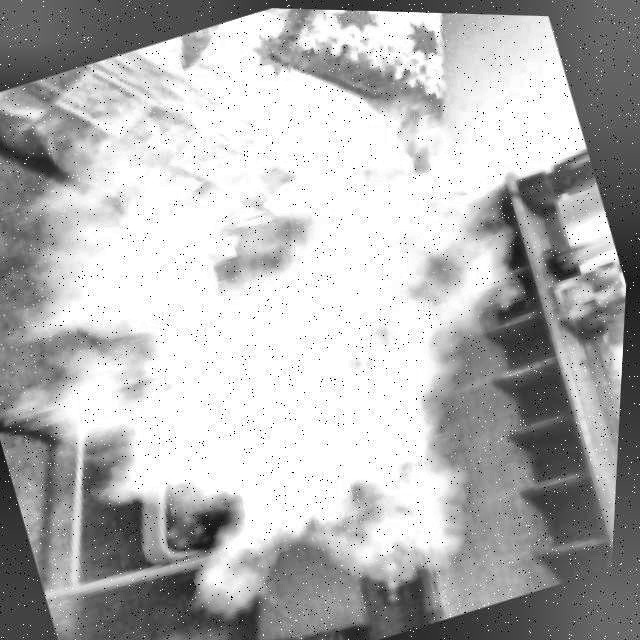Smoke: (0, 9, 621, 640)
